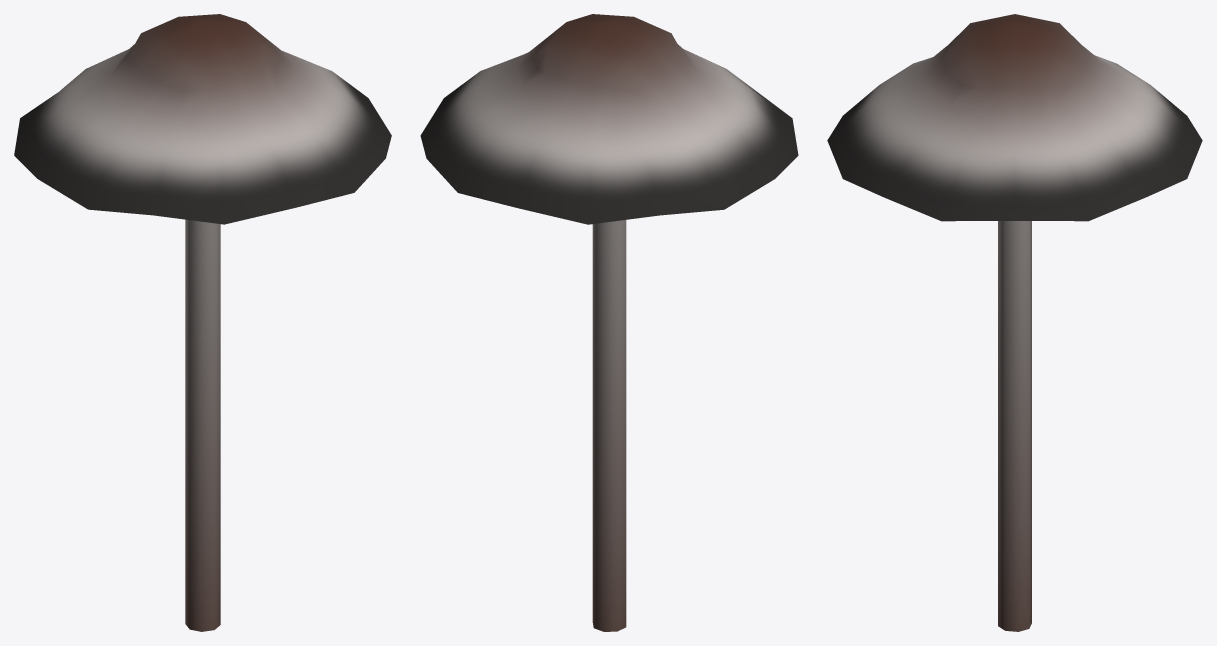
The model's file is Inky_Cap_Big.fbx.
3 renders of one model, left to right at view 1: azimuth 30°, elevation 25°; view 2: azimuth 150°, elevation 25°; view 3: azimuth 270°, elevation 25°, orthographic.
Visible parts, largest first — view 1: Inky_Cap_Big; view 2: Inky_Cap_Big; view 3: Inky_Cap_Big.
Part boxes in pixels (box(x1,y1,x2,y2)): Inky_Cap_Big: box(14, 14, 391, 631); Inky_Cap_Big: box(420, 14, 798, 631); Inky_Cap_Big: box(827, 14, 1202, 631).
Bounding box in the file's own units: 11.44 × 19.92 × 11.28.
